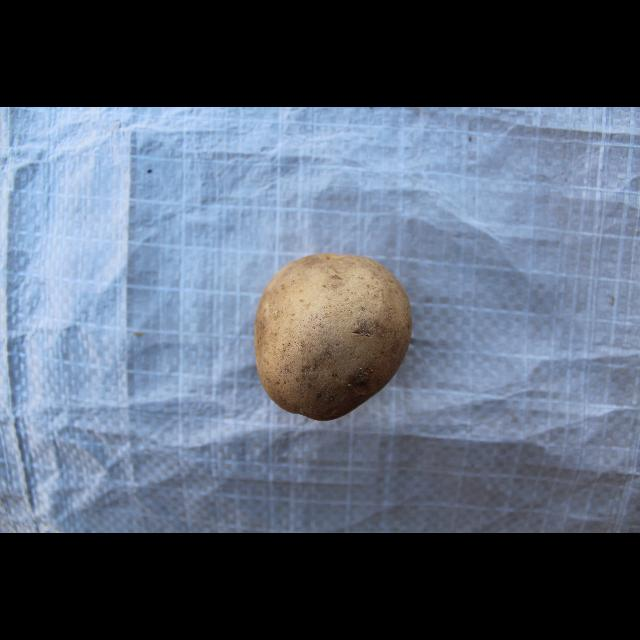Diseased-fungal potato: (247, 253, 416, 425)
